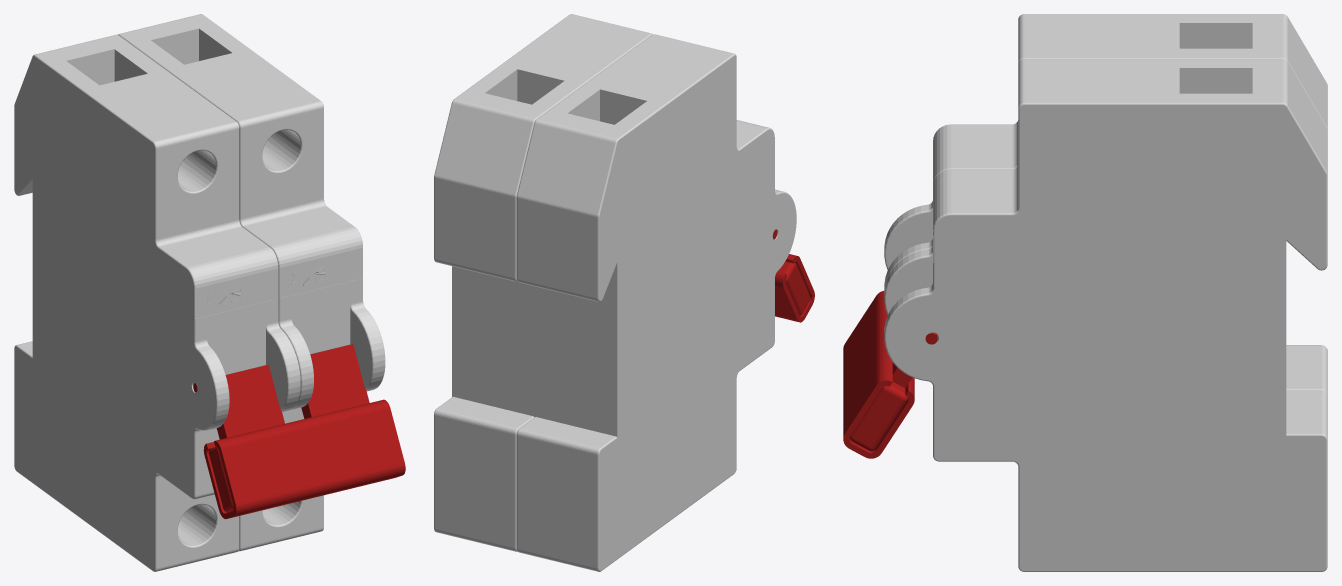
Rendered from MCB_G120.fbx.
The picture shows the model from 3 angles, left to right: view 1: azimuth 30°, elevation 25°; view 2: azimuth 150°, elevation 25°; view 3: azimuth 270°, elevation 25°; orthographic projection. The views are drawn at different scales.
Parts seen in each view (by area): view 1: white medium gloss plastic, red medium gloss plastic; view 2: white medium gloss plastic, red medium gloss plastic; view 3: white medium gloss plastic, red medium gloss plastic.
Part boxes in pixels (x1,y1,x2,y2): white medium gloss plastic: (14,14,385,571); red medium gloss plastic: (193,344,405,519); white medium gloss plastic: (434,14,796,571); red medium gloss plastic: (772,229,814,322); white medium gloss plastic: (884,14,1327,571); red medium gloss plastic: (843,291,937,458).
Size of the model in its own units: 3.52 by 8.5 by 7.95.
